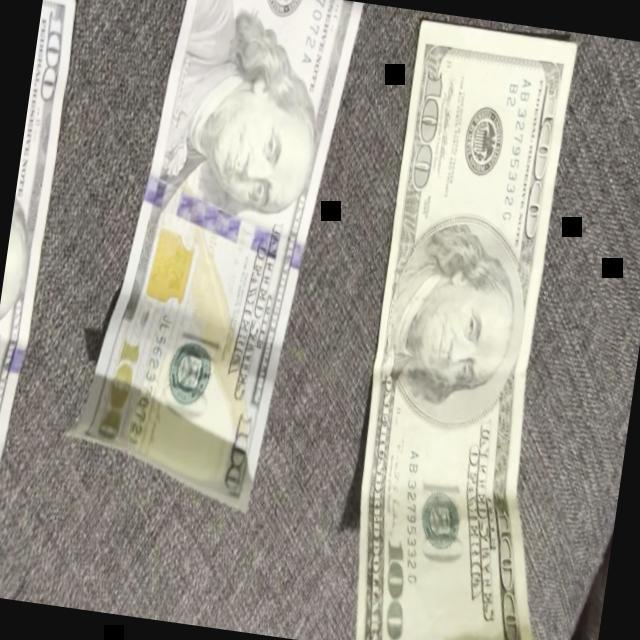hundred: (333, 17, 623, 640), (52, 0, 367, 524), (0, 0, 81, 597)
